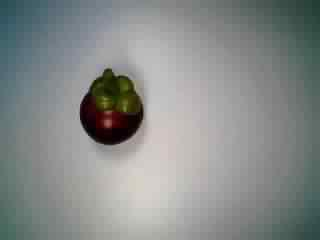mangosteen: (72, 64, 149, 147)
